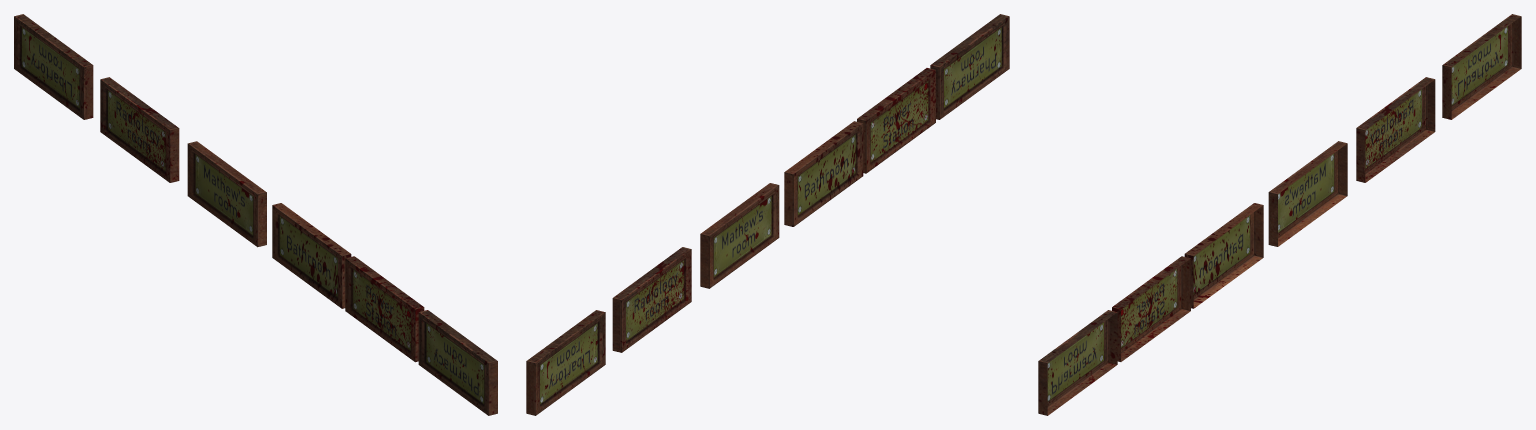
File: SIGN BOARD.fbx
3 views of the same model, side by side, from view 1: azimuth 30°, elevation 25°; view 2: azimuth 150°, elevation 25°; view 3: azimuth 330°, elevation 25° (orthographic).
Visible parts, largest first — view 1: Tablet_03, Tablet_04, Tablet_05, Tablet_06, Tablet_01, Tablet_02; view 2: Tablet_03, Tablet_02, Tablet_05, Tablet_04, Tablet_06, Tablet_01; view 3: Tablet_03, Tablet_05, Tablet_06, Tablet_04, Tablet_01, Tablet_02.
Part boxes in pixels (x1,y1,x2,y2): Tablet_03: (187, 141, 266, 247); Tablet_04: (100, 77, 179, 182); Tablet_05: (14, 14, 93, 119); Tablet_06: (418, 310, 497, 415); Tablet_01: (345, 256, 424, 362); Tablet_02: (272, 203, 351, 308); Tablet_03: (700, 183, 779, 288); Tablet_02: (784, 121, 863, 226); Tablet_05: (526, 310, 605, 415); Tablet_04: (612, 247, 691, 352); Tablet_06: (930, 14, 1009, 119); Tablet_01: (857, 68, 935, 173); Tablet_03: (1268, 141, 1347, 246); Tablet_05: (1442, 14, 1521, 119); Tablet_06: (1038, 310, 1117, 415); Tablet_04: (1356, 77, 1435, 182); Tablet_01: (1112, 256, 1190, 361); Tablet_02: (1184, 203, 1263, 308).
Bounding box in the file's own units: 0.0326 × 0.17 × 2.77.
Materials: 2 (2 with a texture image).
